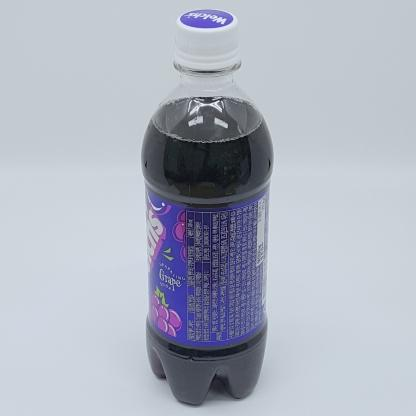-------500ml: (142, 9, 273, 406)
